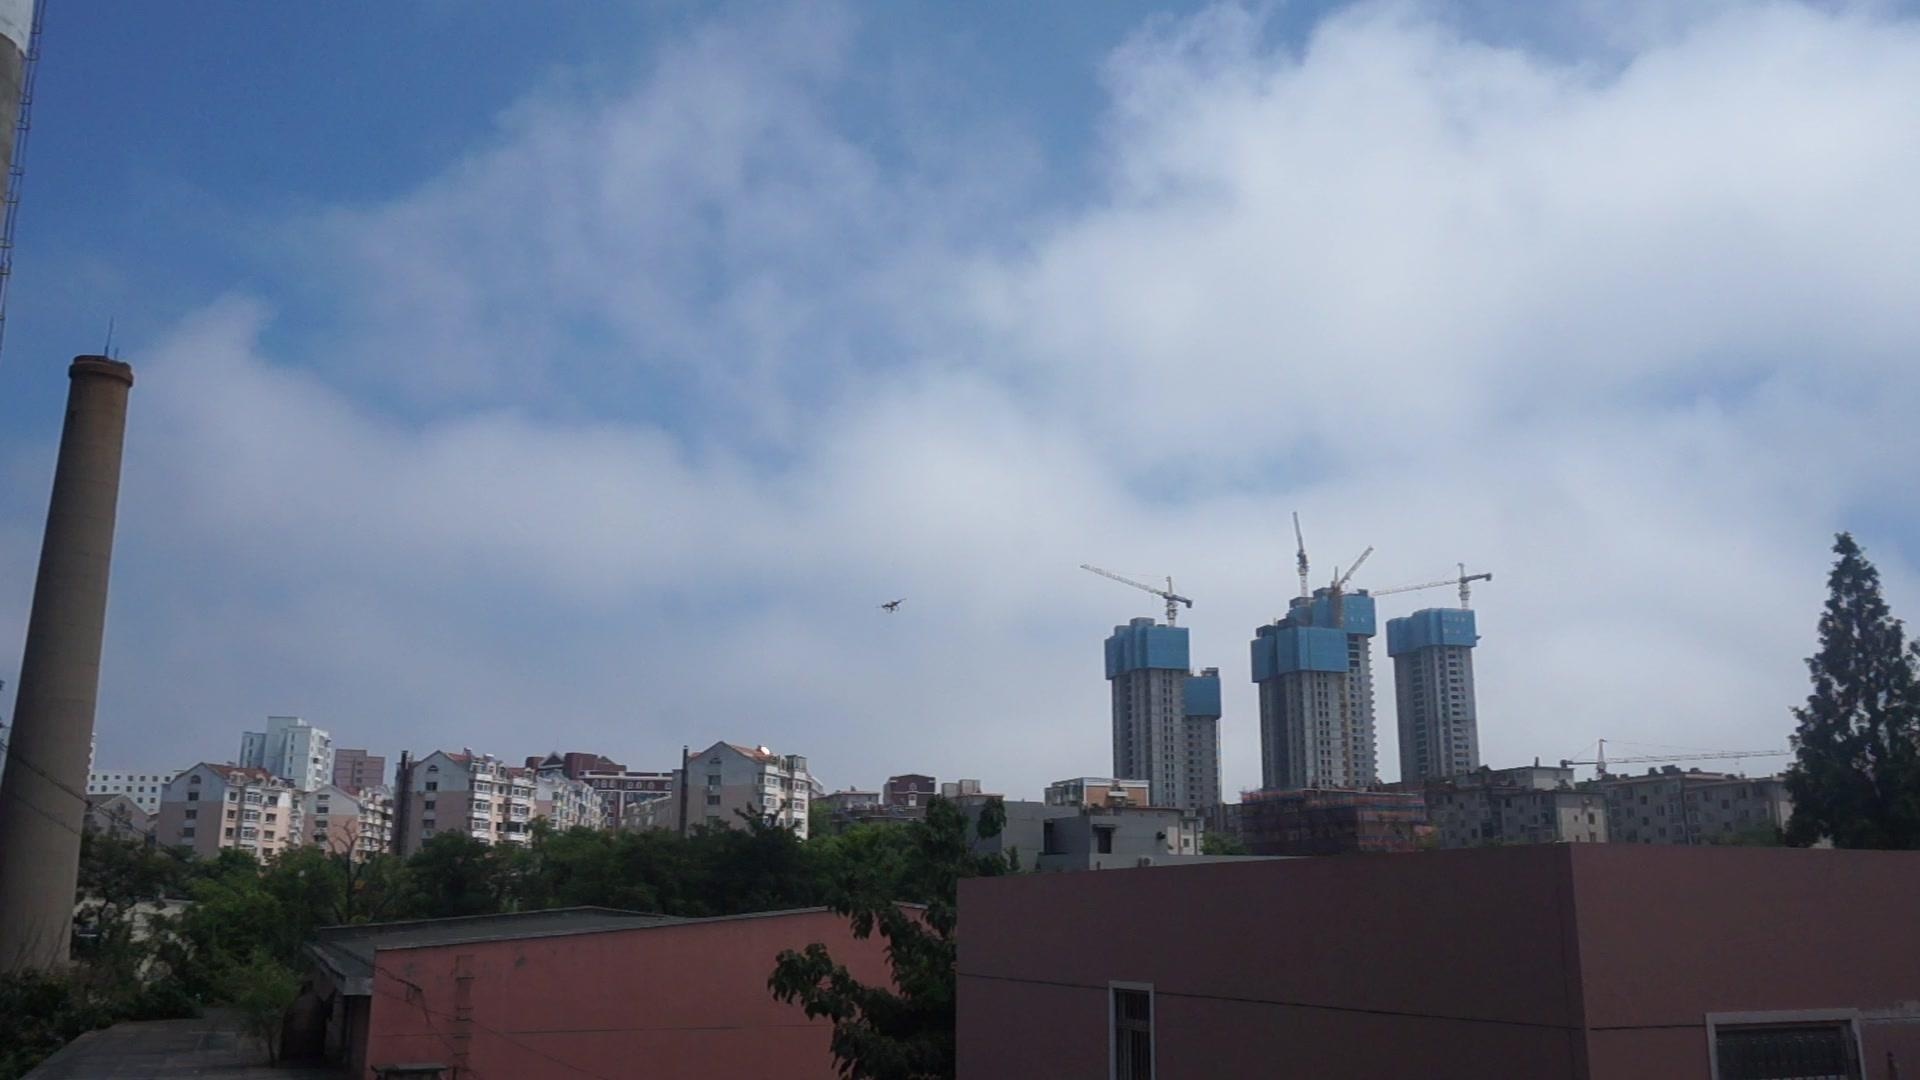UAV: (877, 597, 909, 615)
